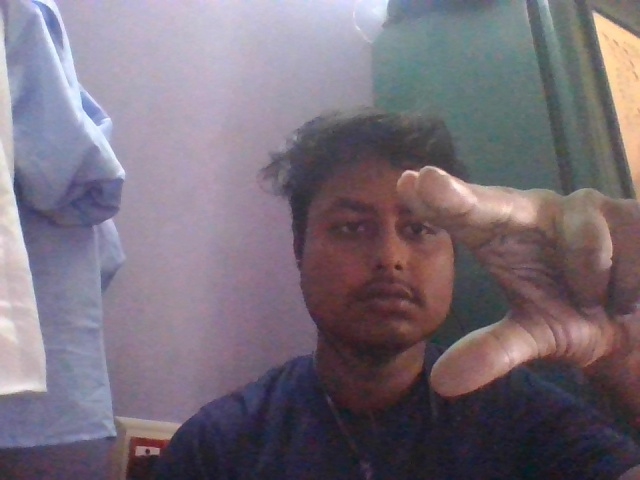no: (387, 153, 640, 399)
